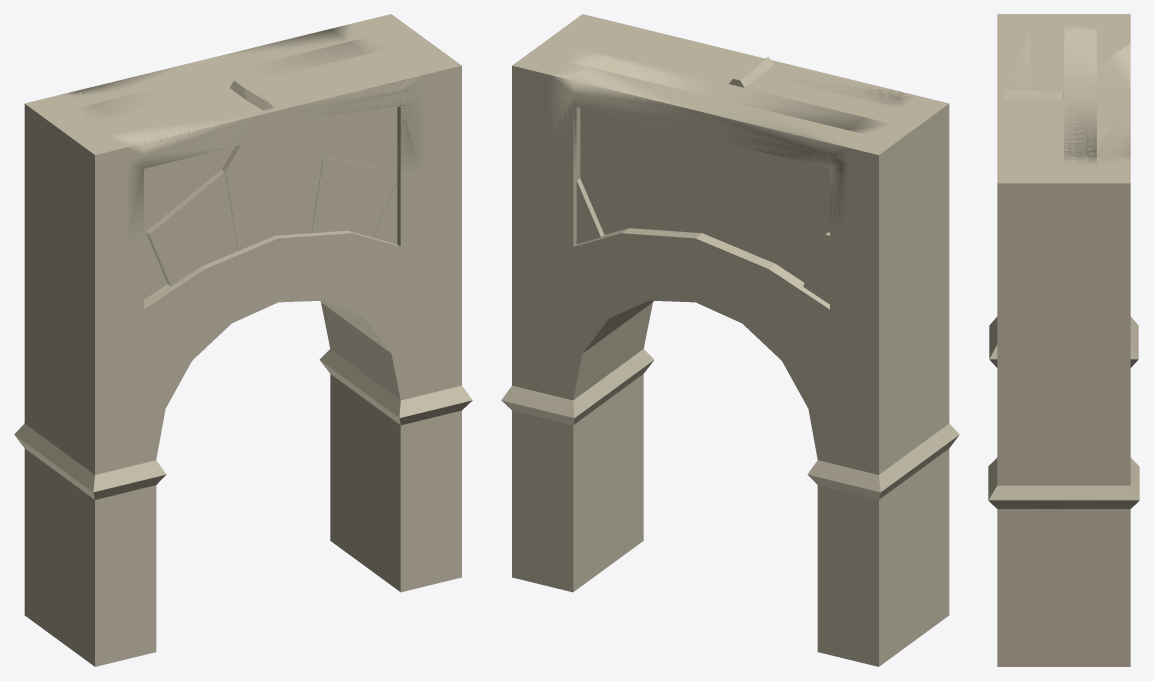
File: Arch_SHATTERED.fbx
The picture shows the model from 3 angles, left to right: view 1: azimuth 30°, elevation 25°; view 2: azimuth 150°, elevation 25°; view 3: azimuth 270°, elevation 25°; orthographic projection. The views are drawn at different scales.
Parts seen in each view (by area): view 1: Circle.006, Circle.006_cell.032, Circle.006_cell.040, Circle.006_cell.080, Circle.006_cell.021, Circle.006_cell.045, Circle.006_cell.007, Circle.006_cell.053, Circle.006_cell.076, Circle.006_cell.068, Circle.006_cell.003, Circle.006_cell.042 (+45 smaller); view 2: Circle.006, Circle.006_cell.100, Circle.006_cell.070, Circle.006_cell.044, Circle.006_cell.026, Circle.006_cell.038, Circle.006_cell.002, Circle.006_cell.027, Circle.006_cell.082, Circle.006_cell.081, Circle.006_cell.090, Circle.006_cell.041 (+42 smaller); view 3: Circle.006, Circle.006_cell.084, Circle.006_cell.028, Circle.006_cell.050, Circle.006_cell.012, Circle.006_cell.017, Circle.006_cell.009, Circle.006_cell, Circle.006_cell.057, Circle.006_cell.035, Circle.006_cell.065, Circle.006_cell.082 (+13 smaller).
Boxes of the visible parts, left/top/right/bottom form: Circle.006: left=14, top=16, right=472, bottom=663; Circle.006_cell.032: left=222, top=79, right=323, bottom=250; Circle.006_cell.040: left=60, top=312, right=150, bottom=422; Circle.006_cell.080: left=362, top=171, right=461, bottom=291; Circle.006_cell.021: left=91, top=240, right=185, bottom=352; Circle.006_cell.045: left=146, top=169, right=237, bottom=286; Circle.006_cell.007: left=54, top=464, right=125, bottom=583; Circle.006_cell.053: left=365, top=398, right=431, bottom=508; Circle.006_cell.076: left=311, top=156, right=397, bottom=237; Circle.006_cell.068: left=54, top=397, right=129, bottom=487; Circle.006_cell.003: left=108, top=101, right=266, bottom=160; Circle.006_cell.042: left=300, top=107, right=397, bottom=172; Circle.006: left=501, top=14, right=959, bottom=666; Circle.006_cell.100: left=654, top=131, right=751, bottom=250; Circle.006_cell.070: left=823, top=312, right=913, bottom=422; Circle.006_cell.044: left=727, top=88, right=892, bottom=231; Circle.006_cell.026: left=736, top=169, right=827, bottom=286; Circle.006_cell.038: left=846, top=476, right=913, bottom=582; Circle.006_cell.002: left=567, top=49, right=723, bottom=165; Circle.006_cell.027: left=576, top=154, right=665, bottom=236; Circle.006_cell.082: left=548, top=62, right=709, bottom=119; Circle.006_cell.081: left=538, top=400, right=608, bottom=508; Circle.006_cell.090: left=803, top=230, right=913, bottom=320; Circle.006_cell.041: left=793, top=240, right=882, bottom=346; Circle.006: left=988, top=14, right=1139, bottom=666; Circle.006_cell.084: left=1064, top=328, right=1130, bottom=436; Circle.006_cell.028: left=1064, top=484, right=1139, bottom=587; Circle.006_cell.050: left=993, top=500, right=1063, bottom=587; Circle.006_cell.012: left=1064, top=588, right=1130, bottom=666; Circle.006_cell.017: left=997, top=328, right=1063, bottom=436; Circle.006_cell.009: left=1064, top=436, right=1139, bottom=499; Circle.006_cell: left=988, top=436, right=1063, bottom=499; Circle.006_cell.057: left=997, top=588, right=1063, bottom=666; Circle.006_cell.035: left=1064, top=195, right=1130, bottom=287; Circle.006_cell.065: left=1064, top=283, right=1123, bottom=340; Circle.006_cell.082: left=1097, top=98, right=1130, bottom=166.
Bounding box in the file's own units: 310 × 405 × 113.
